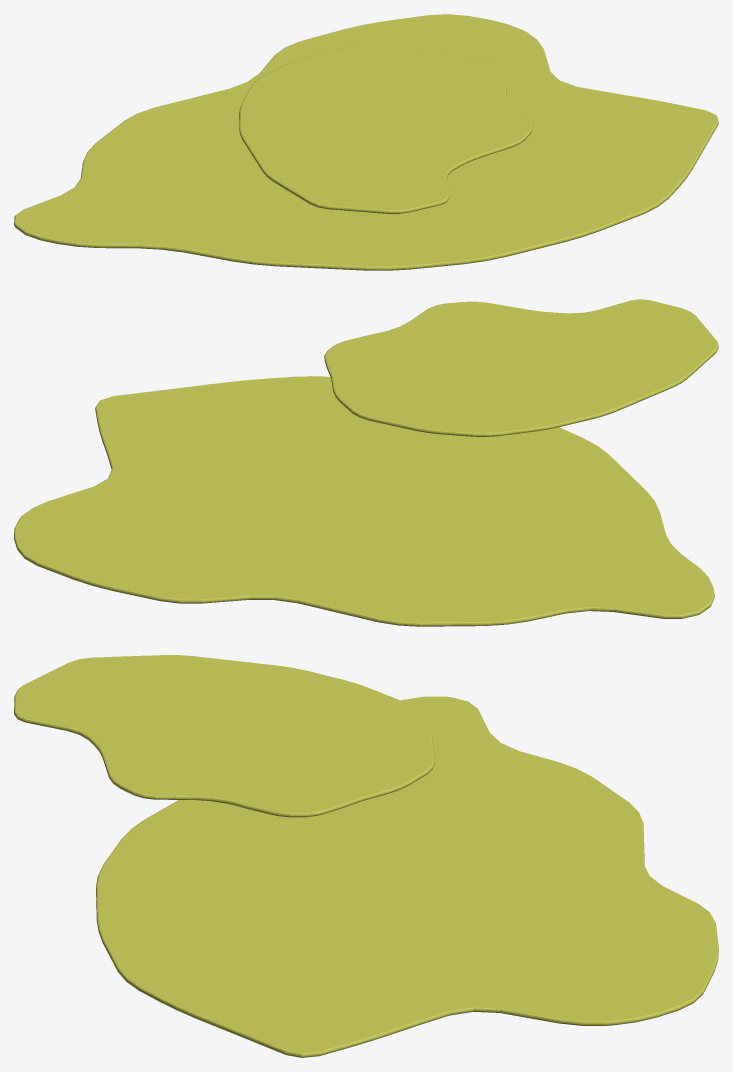
File: grass.glb
3 renders of one model, top to bottom at view 1: azimuth 30°, elevation 25°; view 2: azimuth 150°, elevation 25°; view 3: azimuth 270°, elevation 25°, orthographic. The views are drawn at different scales.
Visible parts, largest first — view 1: b.002, Vert.021; view 2: b.002, Vert.021; view 3: b.002, Vert.021.
Boxes of the visible parts, box(x1,y1,x2,y2) form: b.002: box(14, 14, 718, 270); Vert.021: box(239, 45, 533, 213); b.002: box(14, 376, 714, 626); Vert.021: box(324, 299, 718, 436); b.002: box(96, 696, 718, 1057); Vert.021: box(14, 655, 434, 817).
Bounding box in the file's own units: 16.3 × 2.59 × 13.55.
